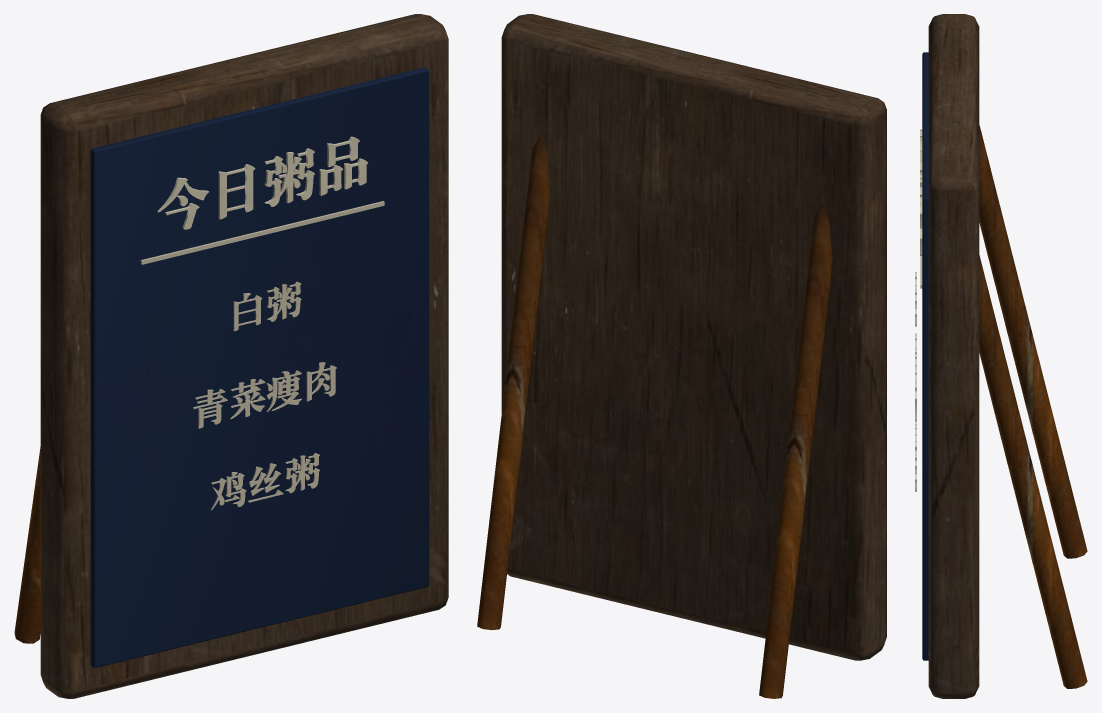
The model's file is PROP_NightBlue_MenuBoard_A.glb.
3 views of the same model, side by side, from view 1: azimuth 30°, elevation 25°; view 2: azimuth 150°, elevation 25°; view 3: azimuth 270°, elevation 25° (orthographic). The views are drawn at different scales.
Parts seen in each view (by area): view 1: PROP_NightBlue_MenuBoard_A; view 2: PROP_NightBlue_MenuBoard_A; view 3: PROP_NightBlue_MenuBoard_A.
Boxes of the visible parts, bbox=[...] form: PROP_NightBlue_MenuBoard_A: bbox=[14, 14, 448, 698]; PROP_NightBlue_MenuBoard_A: bbox=[477, 14, 886, 698]; PROP_NightBlue_MenuBoard_A: bbox=[915, 14, 1087, 698].
Bounding box in the file's own units: 0.42 × 0.603 × 0.1787.
Materials: 4 (4 with a texture image).
